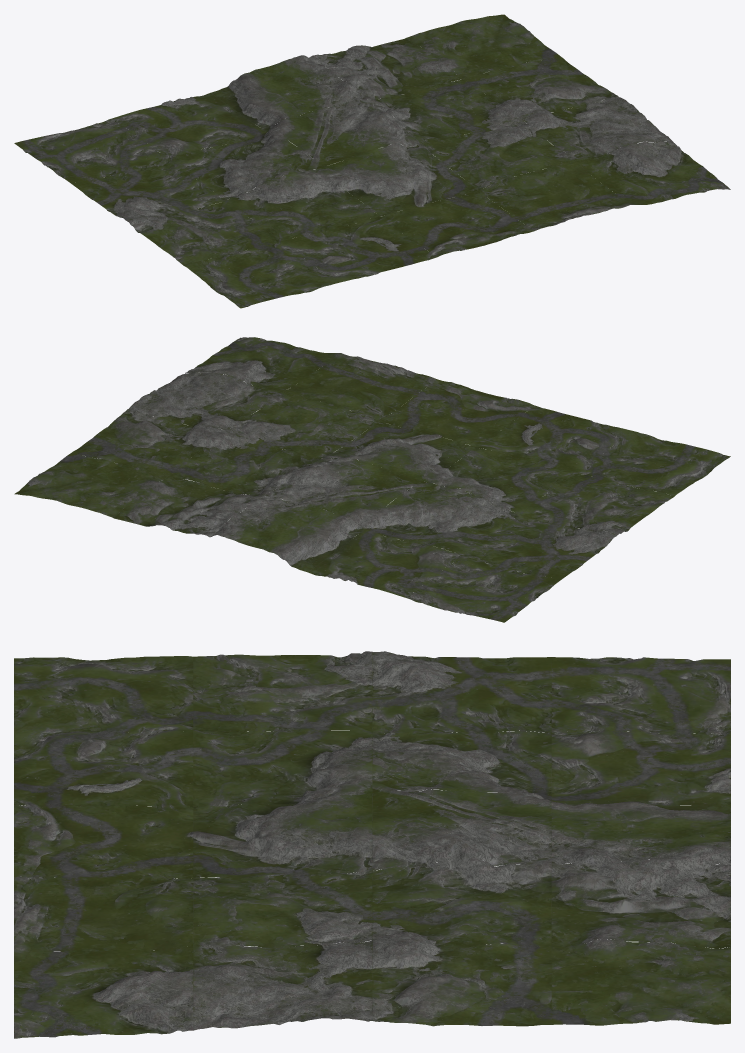
File: terreno-grande.glb
3 views of the same model, one above another, from view 1: azimuth 30°, elevation 25°; view 2: azimuth 150°, elevation 25°; view 3: azimuth 270°, elevation 25° (orthographic). The views are drawn at different scales.
Parts seen in each view (by area): view 1: Object_19, Object_18, Object_11, Object_16, Object_15, Object_20, Object_2, Object_3, Object_6, Object_14, Object_10, Object_17 (+8 smaller); view 2: Object_5, Object_11, Object_6, Object_20, Object_4, Object_14, Object_9, Object_10, Object_3, Object_15, Object_2, Object_17 (+8 smaller); view 3: Object_16, Object_12, Object_8, Object_13, Object_21, Object_7, Object_17, Object_4, Object_19, Object_2, Object_9, Object_3 (+8 smaller).
Boxes of the visible parts, x1,y1,x2,y2 form: Object_19: (324, 143, 477, 216); Object_18: (225, 167, 379, 240); Object_11: (210, 55, 364, 131); Object_16: (576, 141, 730, 204); Object_15: (478, 161, 632, 230); Object_20: (422, 117, 575, 190); Object_2: (184, 241, 338, 308); Object_3: (282, 217, 436, 282); Object_6: (269, 98, 420, 166); Object_14: (380, 190, 534, 257); Object_10: (112, 93, 266, 158); Object_17: (127, 200, 281, 265); Object_5: (365, 481, 519, 555); Object_11: (211, 495, 364, 572); Object_6: (267, 457, 420, 528); Object_20: (225, 392, 379, 458); Object_4: (463, 514, 617, 579); Object_14: (380, 379, 534, 447); Object_9: (407, 556, 560, 622); Object_10: (308, 529, 462, 597); Object_3: (478, 405, 632, 471); Object_15: (282, 353, 436, 421); Object_2: (577, 431, 730, 496); Object_17: (520, 472, 673, 534); Object_16: (14, 945, 193, 1038); Object_12: (551, 855, 730, 948); Object_8: (372, 936, 551, 1026); Object_13: (551, 938, 730, 1025); Object_21: (193, 940, 372, 1030); Object_7: (372, 857, 551, 946); Object_17: (193, 651, 372, 732); Object_4: (372, 651, 551, 733); Object_19: (193, 791, 372, 877); Object_2: (14, 656, 193, 734); Object_9: (551, 657, 730, 735); Object_3: (14, 731, 193, 806).
Bounding box in the file's own units: 2500 × 126 × 2000.
Materials: 20 (20 with a texture image).
